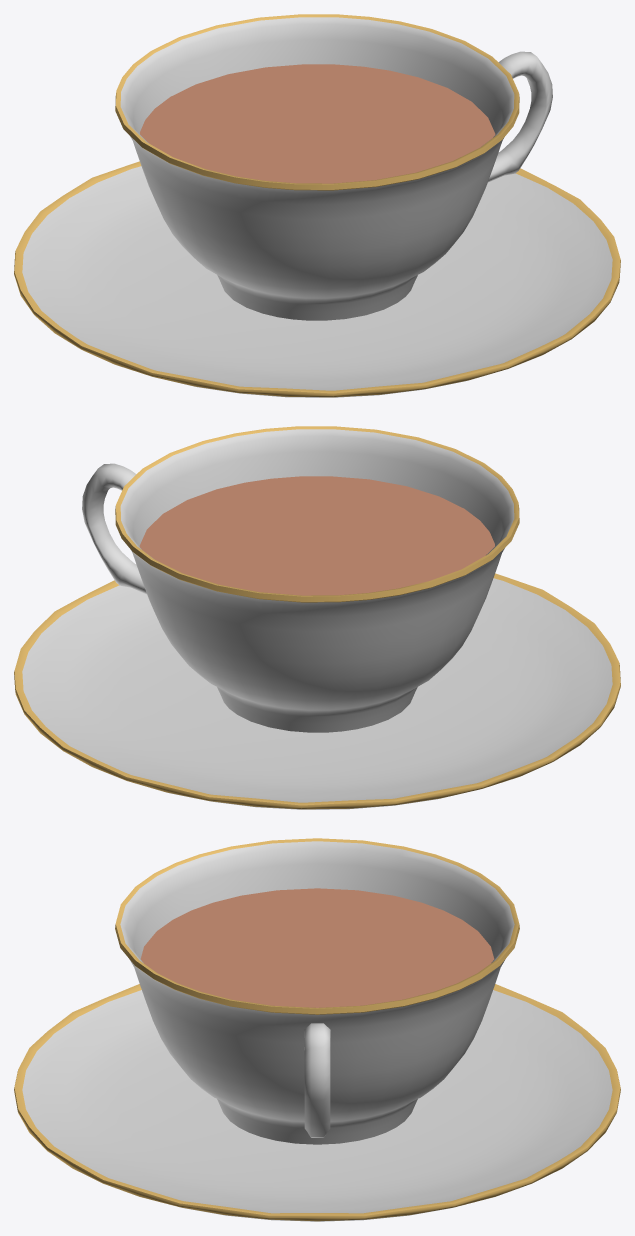
Rendered from teacup.glb.
3 renders of one model, top to bottom at view 1: azimuth 30°, elevation 25°; view 2: azimuth 150°, elevation 25°; view 3: azimuth 270°, elevation 25°, orthographic.
Visible parts, largest first — view 1: pCylinder1, pCube1, pDisc1, pPlane1; view 2: pCylinder1, pCube1, pDisc1, pPlane1; view 3: pCylinder1, pCube1, pDisc1, pPlane1.
Part boxes in pixels (x1,y1,x2,y2): pCylinder1: (14, 161, 620, 397); pCube1: (115, 14, 519, 320); pDisc1: (140, 64, 495, 183); pPlane1: (488, 51, 552, 182); pCylinder1: (14, 573, 620, 809); pCube1: (115, 426, 519, 732); pDisc1: (139, 476, 494, 595); pPlane1: (82, 463, 146, 594); pCylinder1: (14, 984, 620, 1221); pCube1: (115, 838, 519, 1144); pDisc1: (140, 888, 494, 1007); pPlane1: (304, 1023, 330, 1137).
Bounding box in the file's own units: 0.1372 × 0.0495 × 0.1372.
